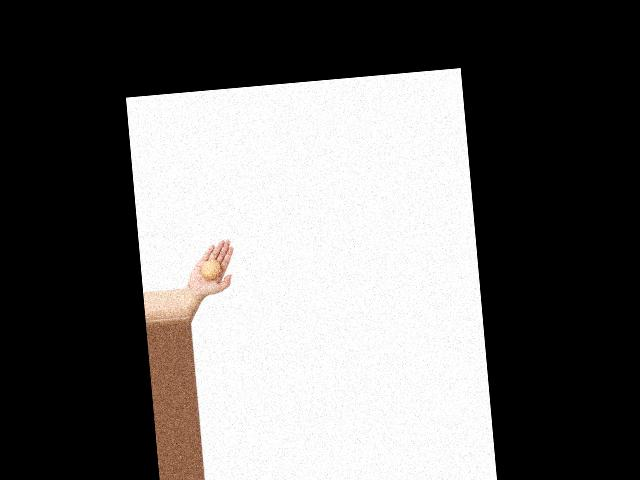egg: (200, 259, 221, 281)
